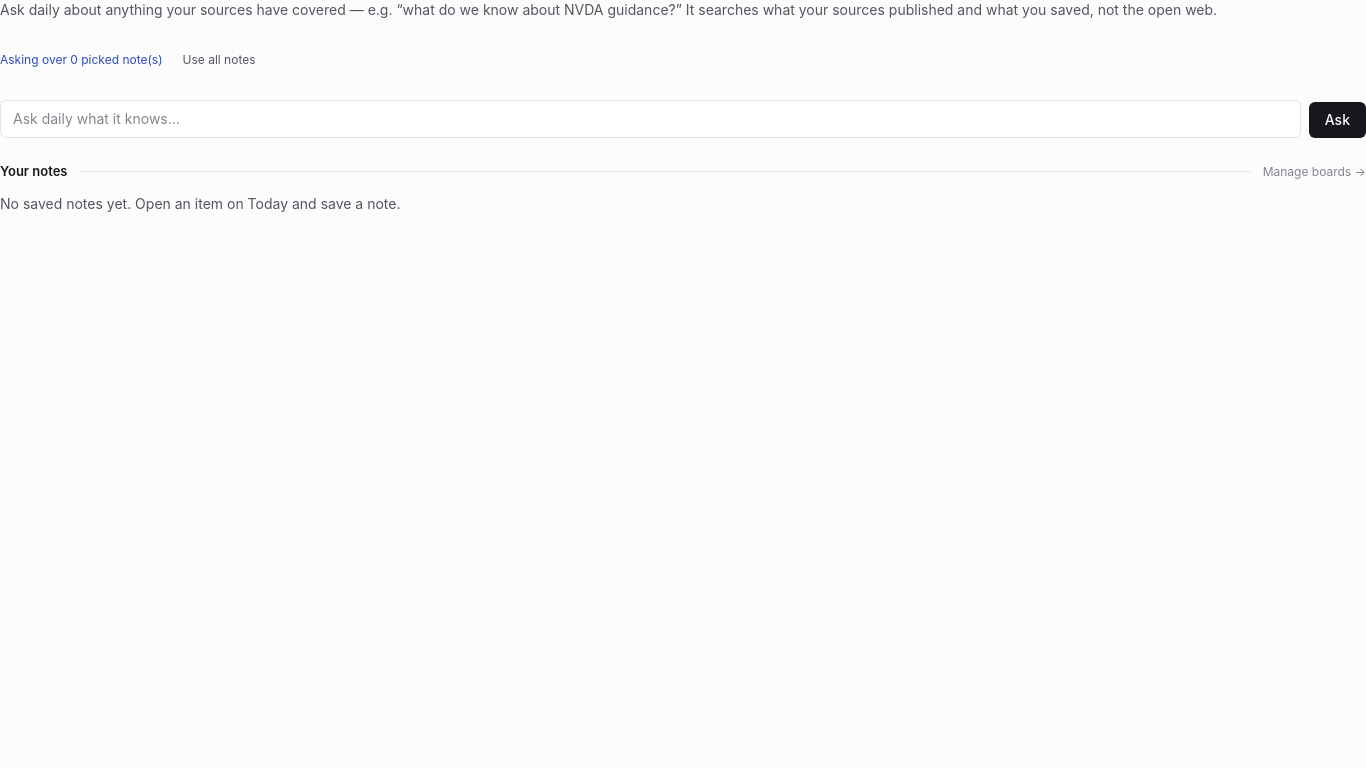
it: KnowledgeView (persisted chats, 2026-07-24) › the open chat has its own delete button (confirm, then close + remove)
Type "美联储最近做了什么?" into the field labelled "Ask daily".
click(650, 119); type("美联储最近做了什么?")  # box [0,100,1301,138]
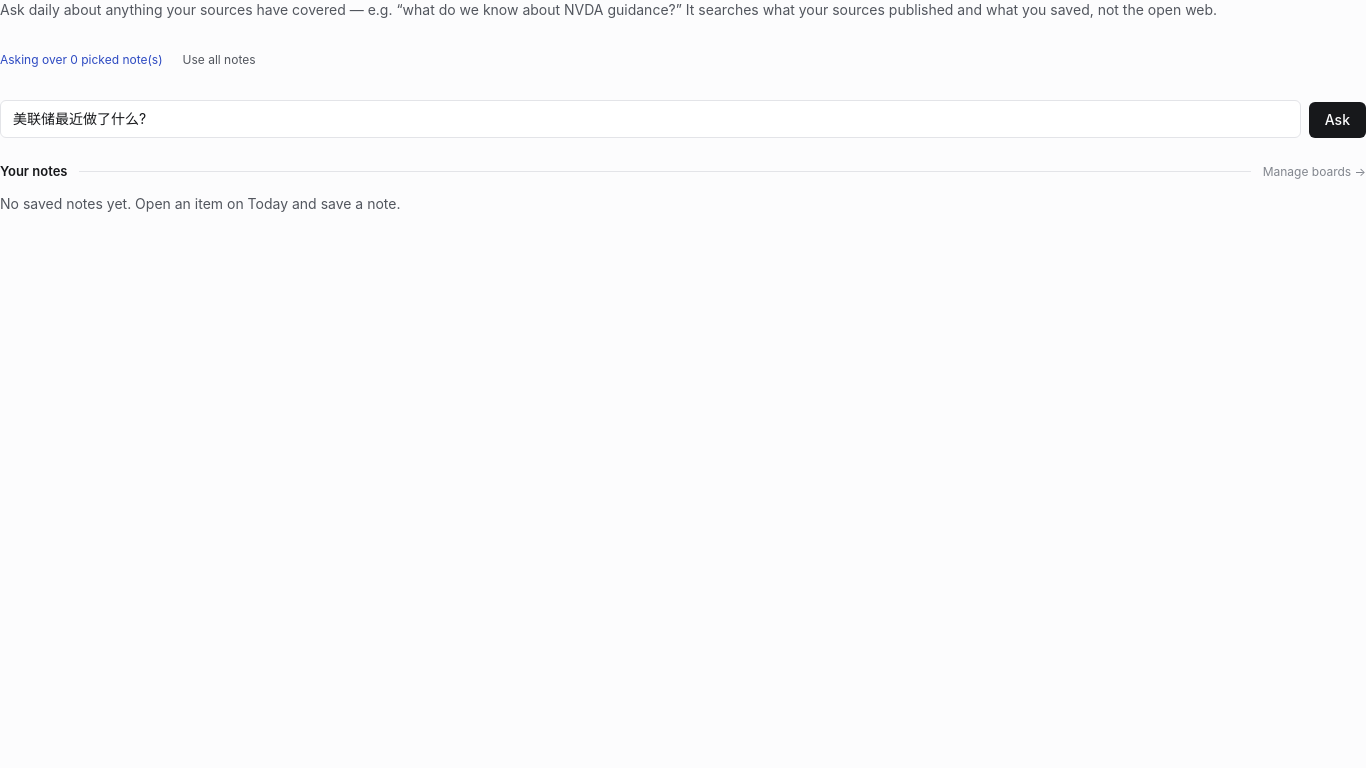
Click the button "Ask".
click(1337, 120)  # box [1309,102,1365,138]
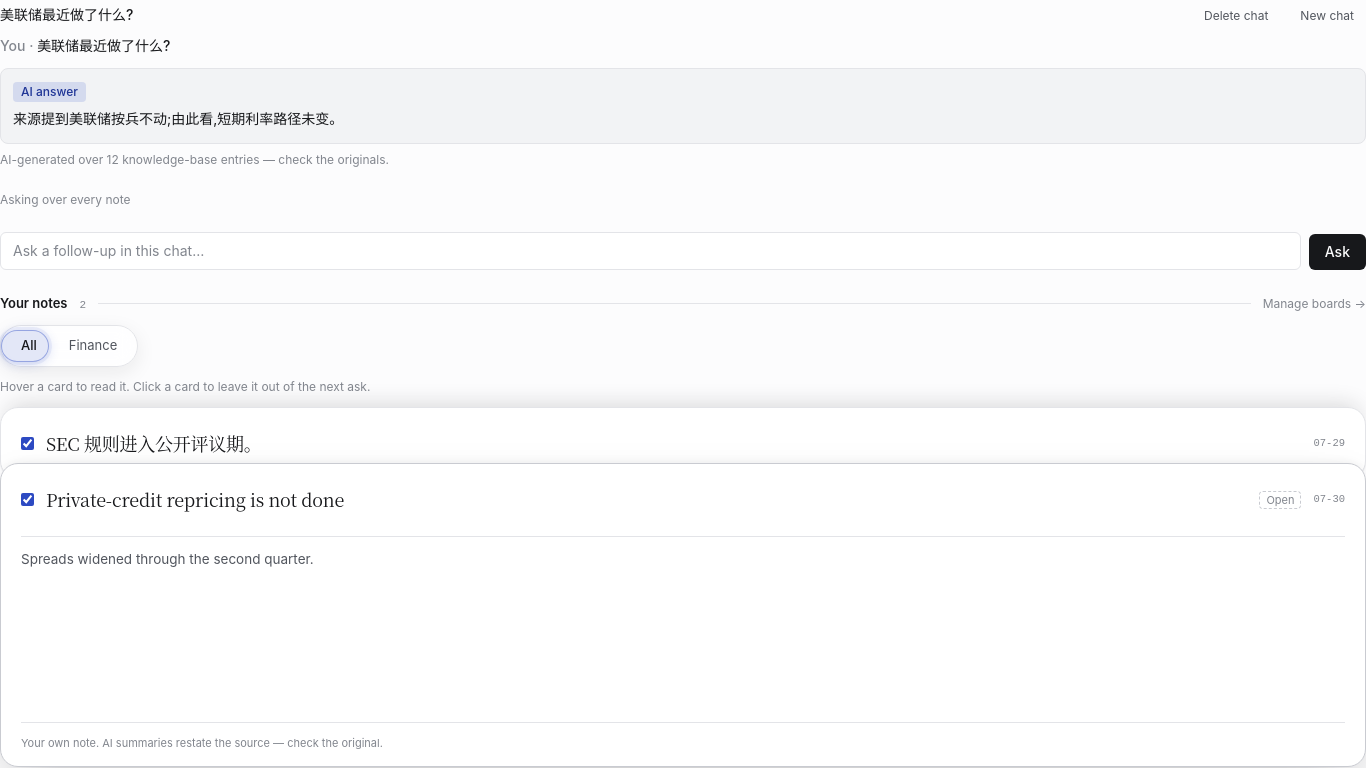
Expected: the text "来源提到美联储按兵不动;由此看,短期利率路径未变。" is shown, [13,110,343,127]
Click the button "Delete chat".
click(1236, 16)  # box [1192,0,1280,32]
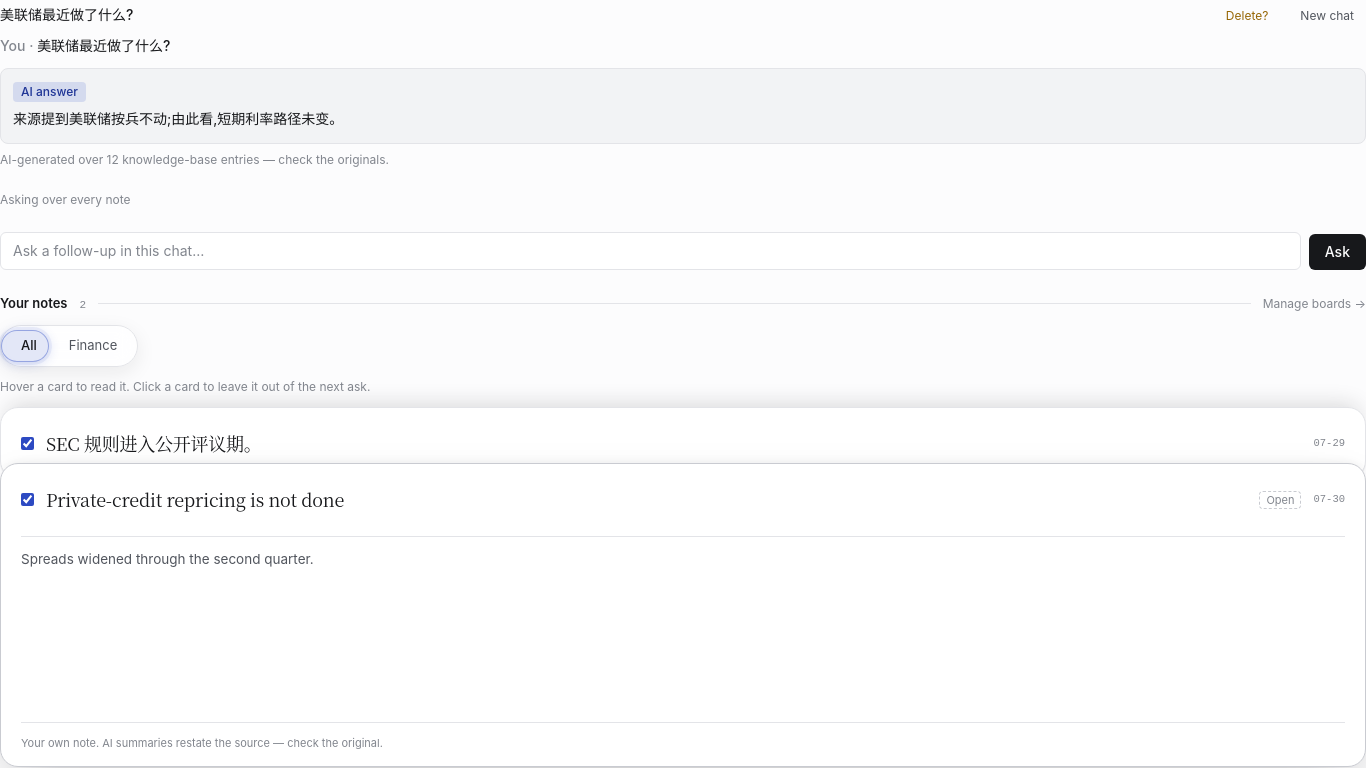
Expected: the button named "Delete chat" reads "Delete?"
Click the button named "Delete chat".
click(1247, 16)  # box [1214,0,1280,32]
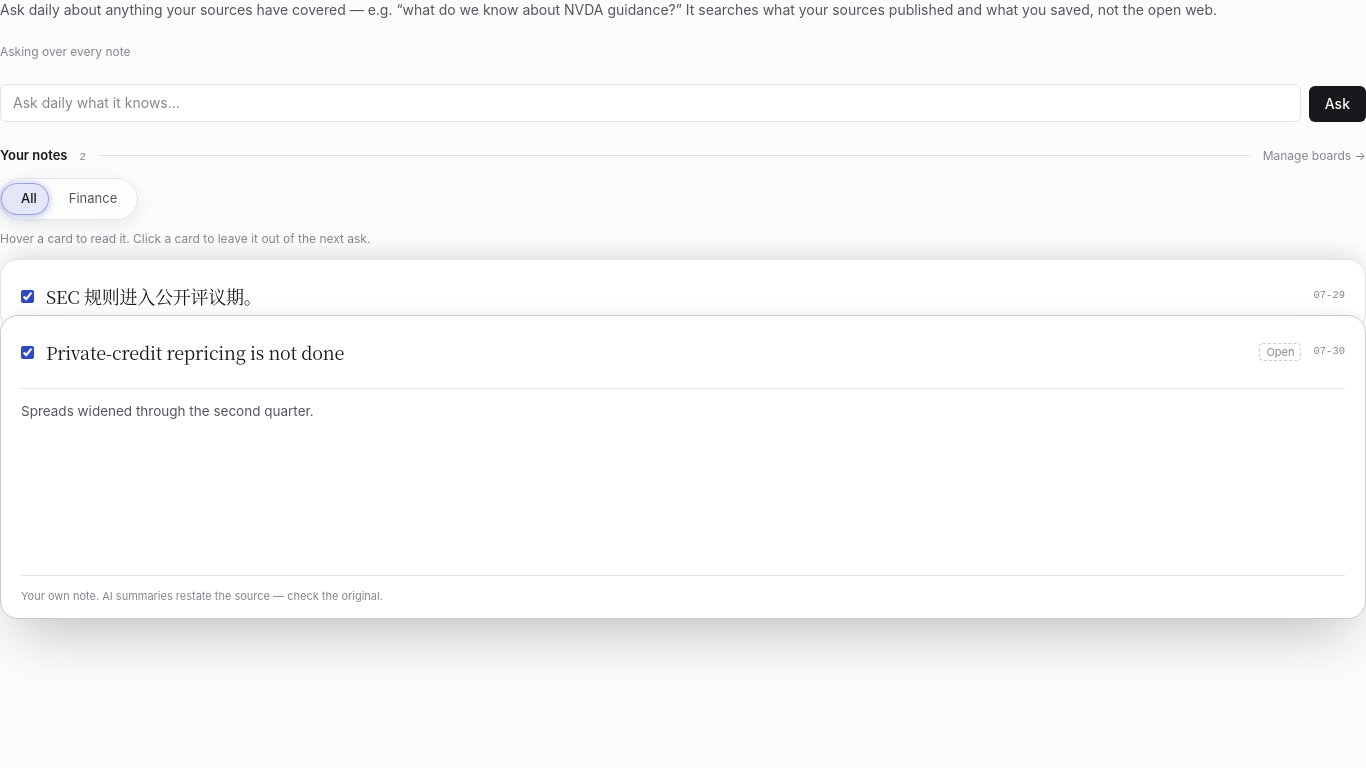
Expected: the text "按兵不动" is gone
